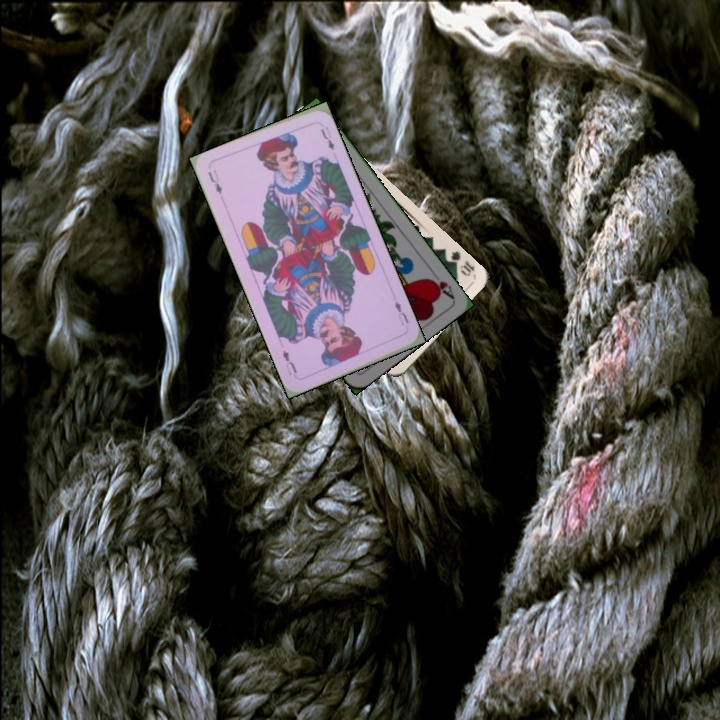EU: (204, 165, 225, 197), (390, 297, 411, 328)
G10: (445, 246, 477, 279)
HA: (424, 266, 456, 301)
